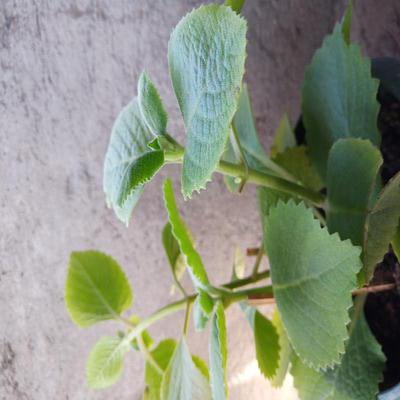Oregano: (82, 39, 391, 390)
